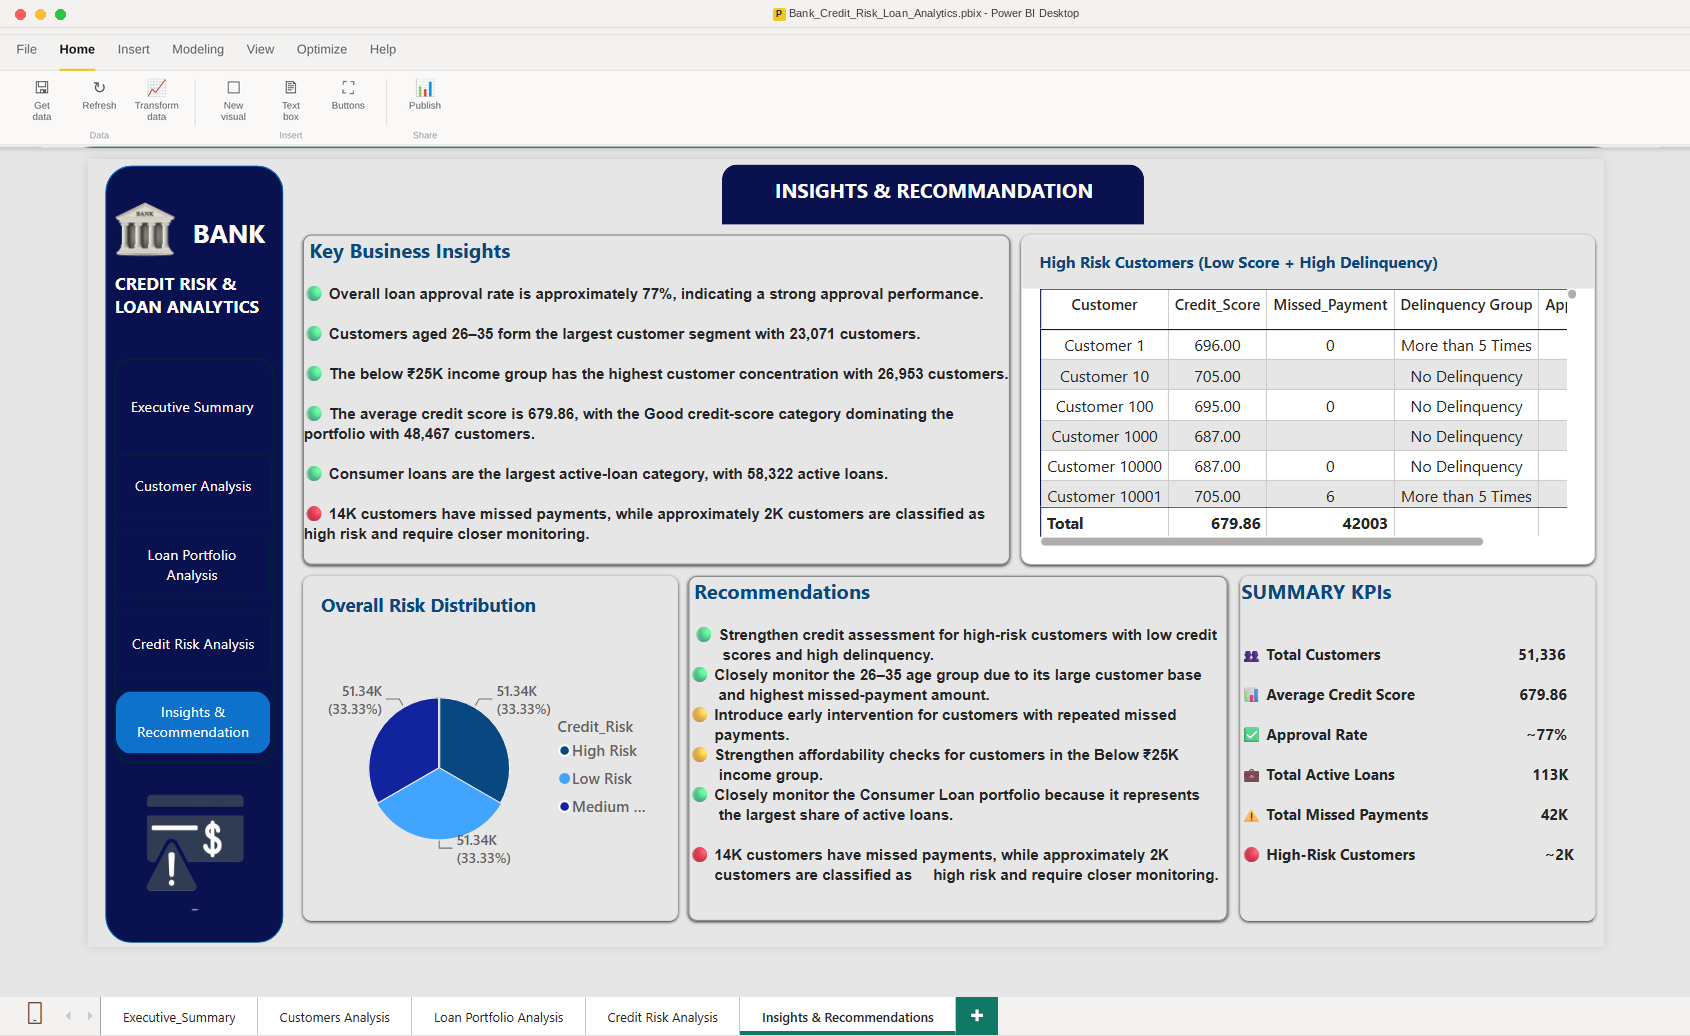

What the dashboard file says about the page in this screenshot:
{"tool":"powerbi","page":{"name":"Insights & Recommendations","canvas":[1404,730],"ordinal":4},"visuals":[{"type":"shape","box":[16.4,6.2,165,720],"z":0},{"type":"image","box":[16.4,27,71.8,77],"z":1000},{"type":"textbox","box":[88.1,51.9,85.3,36.4],"z":2000},{"type":"textbox","box":[24.7,103.9,174.3,55.7],"z":3000},{"type":"shape","box":[23.9,184.1,148.7,375.5],"z":4000},{"type":"actionButton","title":"Executive Summary","box":[23.9,199.7,145,60.3],"z":5000},{"type":"actionButton","title":"Executive Summary","box":[25,272.7,145,60.3],"z":6000},{"type":"actionButton","title":"Executive Summary","box":[23.9,345.8,145,60.3],"z":7000},{"type":"actionButton","title":"Executive Summary","box":[25,418.9,145,60.3],"z":8000},{"type":"actionButton","title":"Executive Summary","box":[25,491.9,145,60.3],"z":9000},{"type":"shape","box":[587.5,5.4,390.5,55.9],"z":10000},{"type":"textbox","box":[619.1,16,329.3,34.8],"z":11000},{"type":"textbox","box":[199,70,655,306],"z":12000},{"type":"tableEx","title":"High Risk Customers (Low Score + High Delinquency)","fields":{"Values":["Dim_Customer.Customer","Avg(Dim_Customer.Credit_Score)","Sum(Fact_loan.Tot_Missed_Pmnt)","Dim_Customer.Delinquency Group","Dim_Customer.Approved_Status"]},"box":[864,70,532,306],"z":12001},{"type":"pieChart","title":"Overall Risk Distribution","fields":{"Category":["Fact_loan.Credit_Risk"],"Y":["CountNonNull(Dim_Customer.PROSPECTID)"]},"box":[199,386,347,320],"z":12002},{"type":"textbox","box":[556,386,499,320],"z":12003},{"type":"textbox","box":[1067,386,329,320],"z":12004}]}

Visuals, with their boxes on the page's 1404x730 design canvas (x1, y1, x2, y2). These are canvas units, not pixel positions in the 1690x1036 screenshot, which may show the page scaled, cropped or inside an application window:
shape: x1=16, y1=6, x2=181, y2=726
image: x1=16, y1=27, x2=88, y2=104
textbox: x1=88, y1=52, x2=173, y2=88
textbox: x1=25, y1=104, x2=199, y2=160
shape: x1=24, y1=184, x2=173, y2=560
"Executive Summary" actionButton: x1=24, y1=200, x2=169, y2=260
"Executive Summary" actionButton: x1=25, y1=273, x2=170, y2=333
"Executive Summary" actionButton: x1=24, y1=346, x2=169, y2=406
"Executive Summary" actionButton: x1=25, y1=419, x2=170, y2=479
"Executive Summary" actionButton: x1=25, y1=492, x2=170, y2=552
shape: x1=588, y1=5, x2=978, y2=61
textbox: x1=619, y1=16, x2=948, y2=51
textbox: x1=199, y1=70, x2=854, y2=376
"High Risk Customers (Low Score + High Delinquency)" tableEx: x1=864, y1=70, x2=1396, y2=376
"Overall Risk Distribution" pieChart: x1=199, y1=386, x2=546, y2=706
textbox: x1=556, y1=386, x2=1055, y2=706
textbox: x1=1067, y1=386, x2=1396, y2=706
